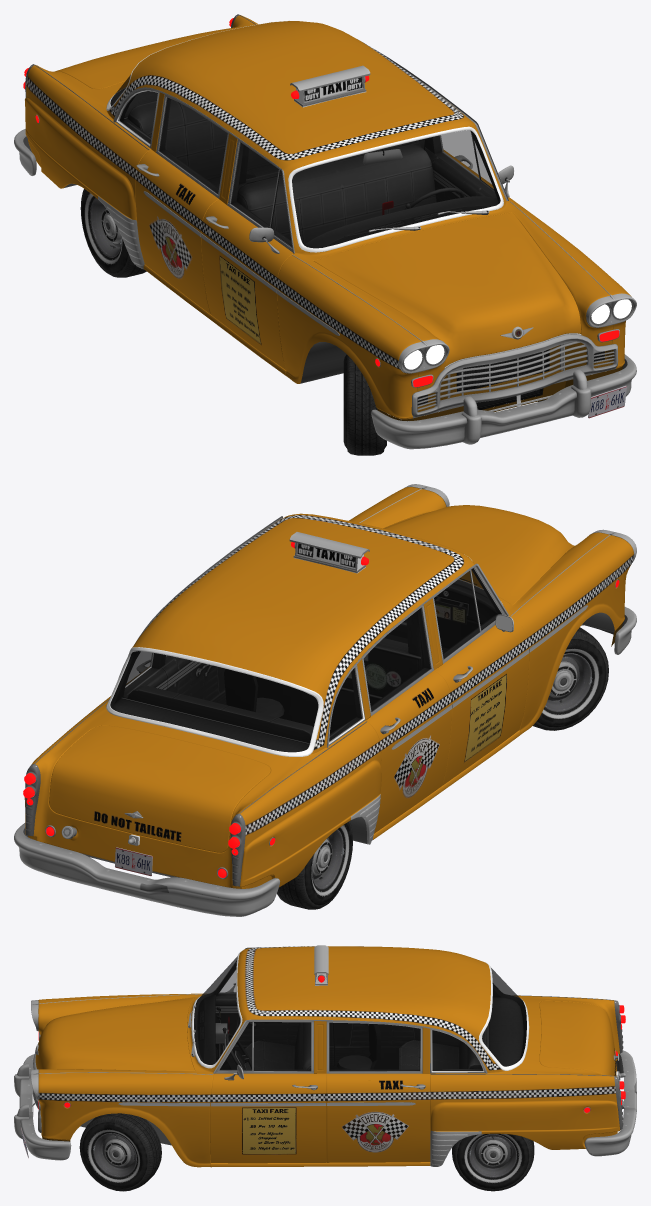
Rendered from taxi.glb.
The picture shows the model from 3 angles, top to bottom: view 1: azimuth 30°, elevation 25°; view 2: azimuth 150°, elevation 25°; view 3: azimuth 270°, elevation 25°; orthographic projection. The views are drawn at different scales.
Visible parts, largest first — view 1: checker_body, checker_chrome, checker_windows, checker_interior, checker_plastic, wheelFR, wheelRR, checker_underbody, checker_headlights, licence_plates; view 2: checker_body, checker_windows, checker_interior, checker_chrome, wheelFR, wheelRR, checker_plastic, checker_underbody, checker_lights, licence_plates; view 3: checker_body, checker_windows, checker_interior, checker_chrome, wheelFL, wheelRL, checker_plastic.
Boxes of the visible parts, left/top/right/bottom form: checker_body: left=25, top=15, right=631, bottom=420; checker_chrome: left=14, top=14, right=636, bottom=449; checker_windows: left=110, top=74, right=500, bottom=247; checker_interior: left=110, top=88, right=500, bottom=248; checker_plastic: left=26, top=20, right=581, bottom=367; wheelFR: left=343, top=354, right=386, bottom=455; wheelRR: left=80, top=189, right=146, bottom=277; checker_underbody: left=23, top=136, right=627, bottom=421; checker_headlights: left=404, top=299, right=631, bottom=369; licence_plates: left=588, top=386, right=626, bottom=418; checker_body: left=24, top=487, right=634, bottom=888; checker_windows: left=110, top=569, right=501, bottom=751; checker_interior: left=110, top=568, right=500, bottom=752; checker_chrome: left=14, top=484, right=636, bottom=916; wheelFR: left=533, top=627, right=608, bottom=730; wheelRR: left=277, top=821, right=352, bottom=909; checker_plastic: left=25, top=554, right=502, bottom=847; checker_underbody: left=23, top=612, right=627, bottom=877; checker_lights: left=23, top=542, right=619, bottom=877; licence_plates: left=115, top=847, right=152, bottom=876; checker_body: left=35, top=946, right=619, bottom=1167; checker_windows: left=194, top=956, right=526, bottom=1070; checker_interior: left=194, top=961, right=526, bottom=1071; checker_chrome: left=14, top=945, right=636, bottom=1166; wheelFL: left=79, top=1113, right=161, bottom=1191; wheelRL: left=452, top=1133, right=534, bottom=1191; checker_plastic: left=191, top=952, right=620, bottom=1098.
Size of the model in its own units: 1.93 by 1.78 by 5.18.
Materials: 12 (5 with a texture image).
